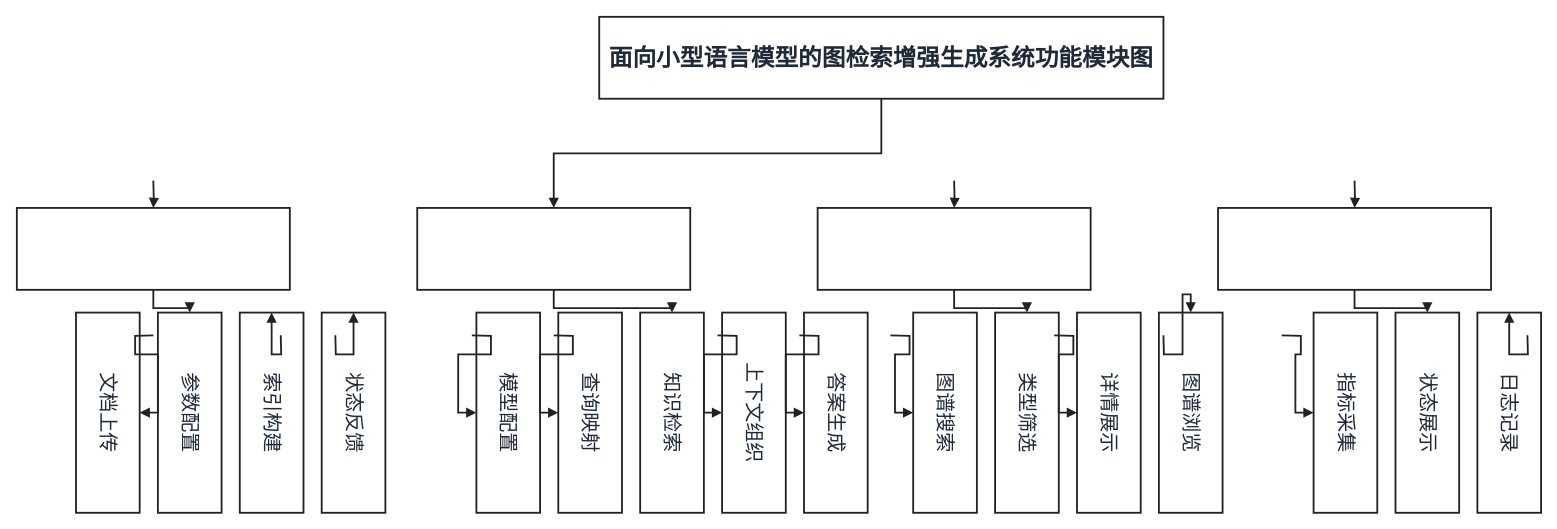
This 1557x529 diagram has some shape labels left out. The shapes that lost their labels are listed below. From the top down, each one's box as (x1, y1, x2, y2) in pixels, then its label:
(15, 207, 290, 290): 数据导入与索引构建模块
(416, 207, 691, 290): 智能问答模块
(816, 207, 1091, 290): 图谱可视化模块
(1217, 207, 1491, 290): 系统监控模块
